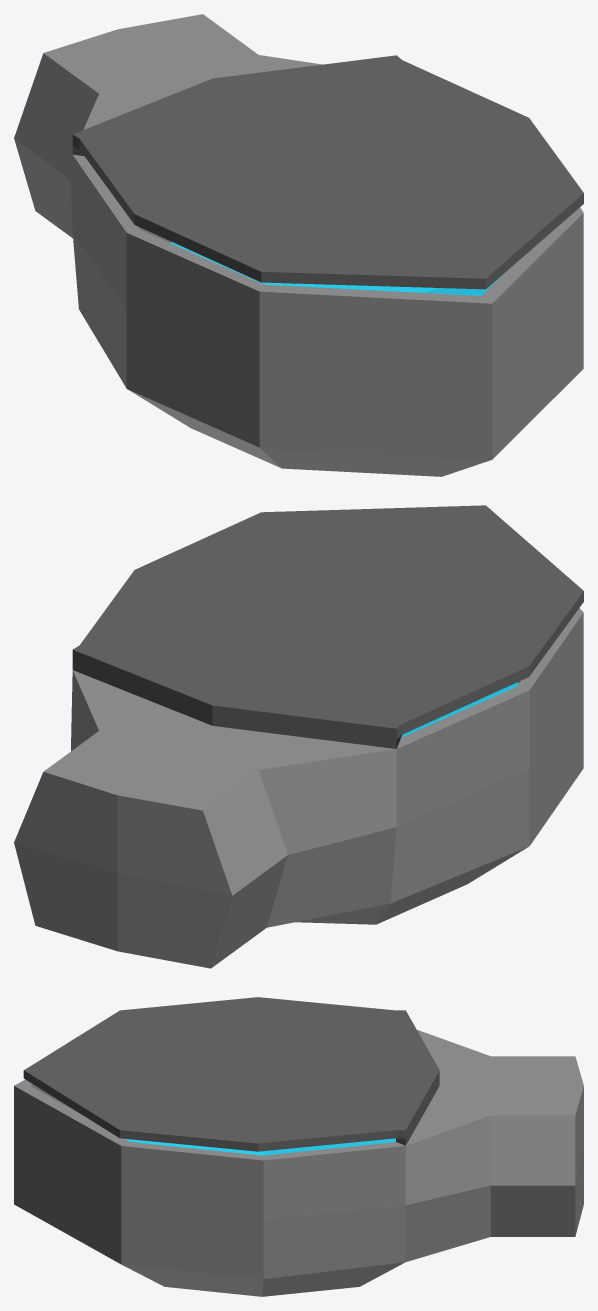
File: Props_Bathroom_Toilet.fbx
The picture shows the model from 3 angles, top to bottom: view 1: azimuth 30°, elevation 25°; view 2: azimuth 150°, elevation 25°; view 3: azimuth 270°, elevation 25°; orthographic projection. The views are drawn at different scales.
Visible parts, largest first — view 1: Cube; view 2: Cube; view 3: Cube.
Part boxes in pixels (x1,y1,x2,y2): Cube: [14, 14, 583, 476]; Cube: [14, 505, 583, 968]; Cube: [14, 997, 583, 1296].
Bounding box in the file's own units: 200 × 109 × 322.
Materials: 1 (1 with a texture image).
